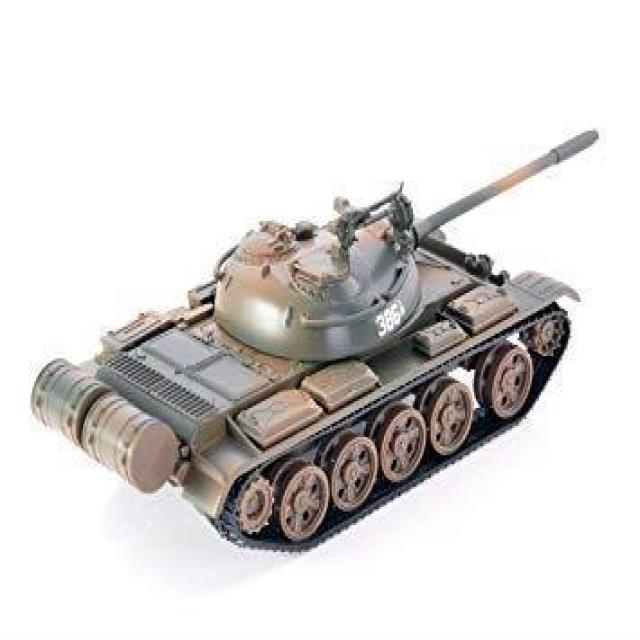Tanks: (24, 177, 566, 533)
